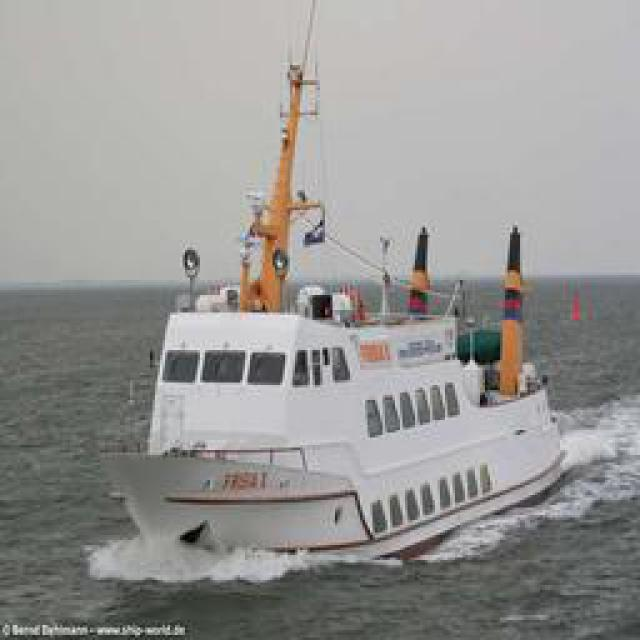Ship: (98, 253, 593, 571)
